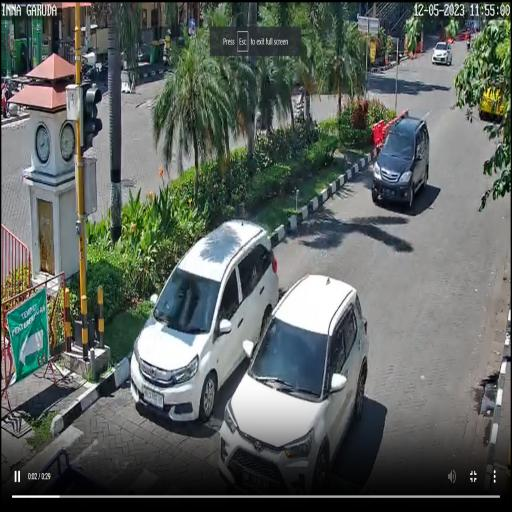mobil: (219, 273, 370, 485), (133, 220, 277, 424), (374, 116, 429, 216)
